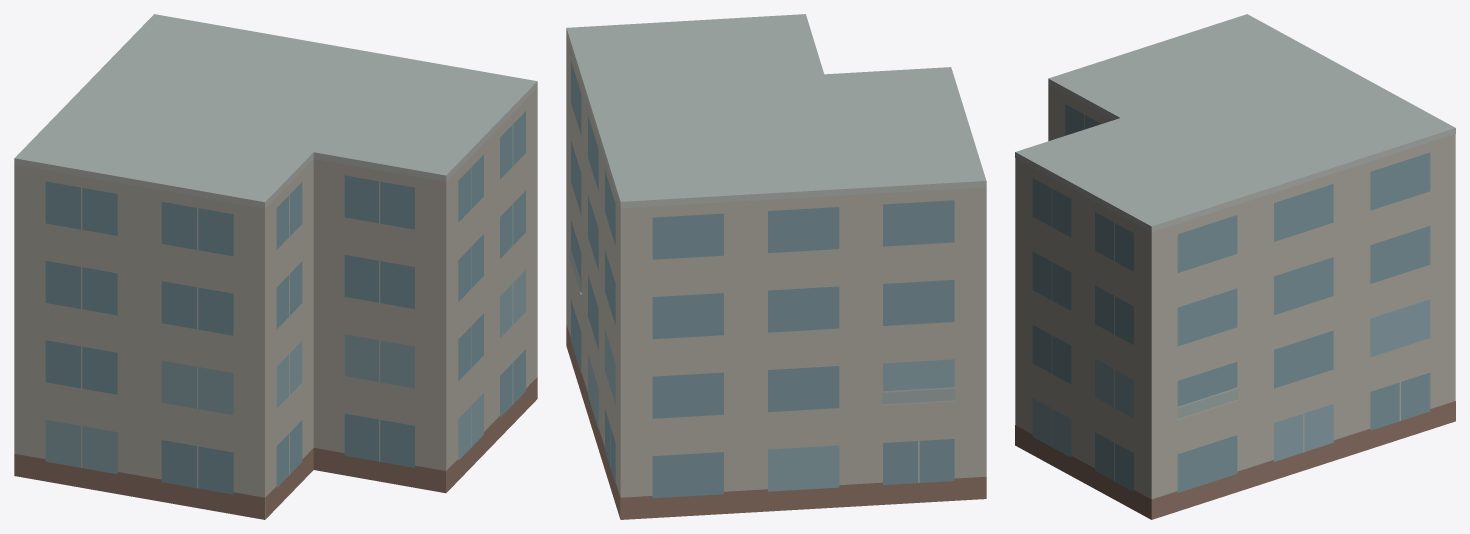
File: survey-upis-32908439.glb
The picture shows the model from 3 angles, left to right: view 1: azimuth 30°, elevation 25°; view 2: azimuth 150°, elevation 25°; view 3: azimuth 270°, elevation 25°; orthographic projection. The views are drawn at different scales.
Parts seen in each view (by area): view 1: survey-upis-32908439.tmp; view 2: survey-upis-32908439.tmp; view 3: survey-upis-32908439.tmp.
Boxes of the visible parts, x1=… form: survey-upis-32908439.tmp: x1=14, y1=14, x2=537, y2=519; survey-upis-32908439.tmp: x1=566, y1=14, x2=986, y2=519; survey-upis-32908439.tmp: x1=1015, y1=14, x2=1455, y2=519.
Bounding box in the file's own units: 18.8 × 12.1 × 16.48.
